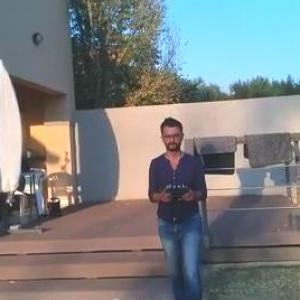follow: (143, 110, 214, 299)
